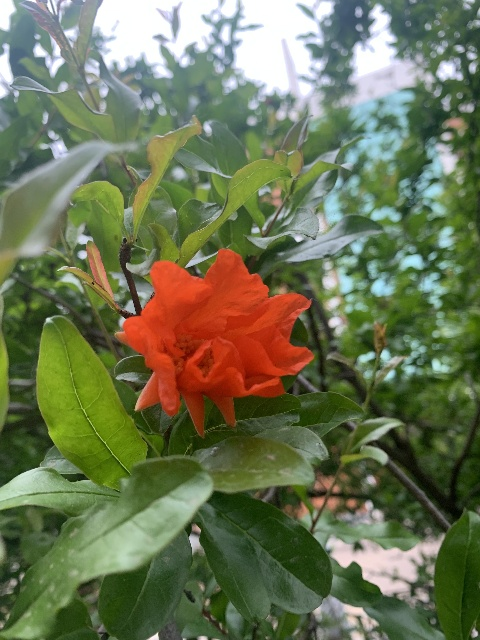flower: (113, 247, 314, 437)
